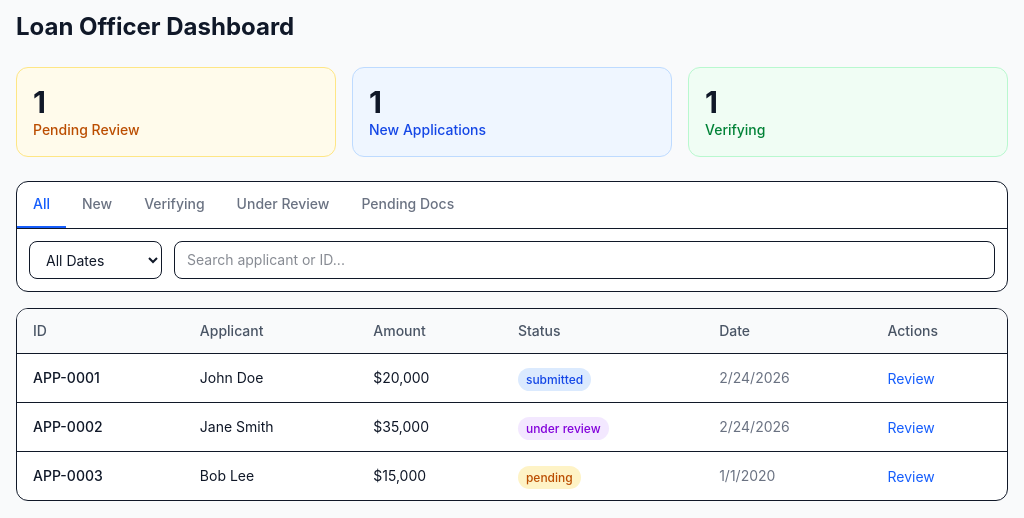
Test: LoanOfficerDashboard › filters by status tab
The width and height of the screenshot is (1024, 518).
Check: the element with test id "status-tabs" is shown, box [17,182,1007,229]
Click the button "New": {"x": 97, "y": 205} [66,182,128,228]
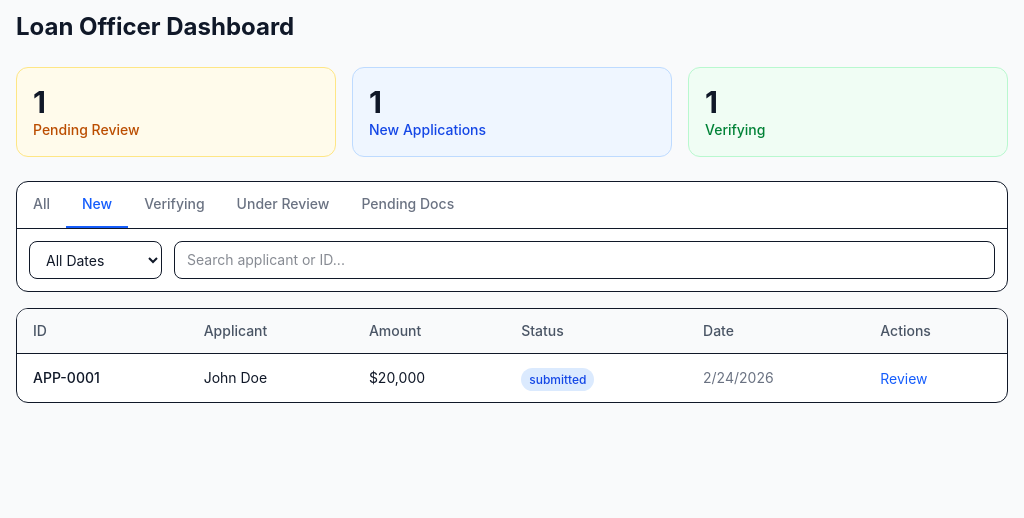
Check: the number of rows with test id "app-row" is 1, box [17,354,1007,402]
